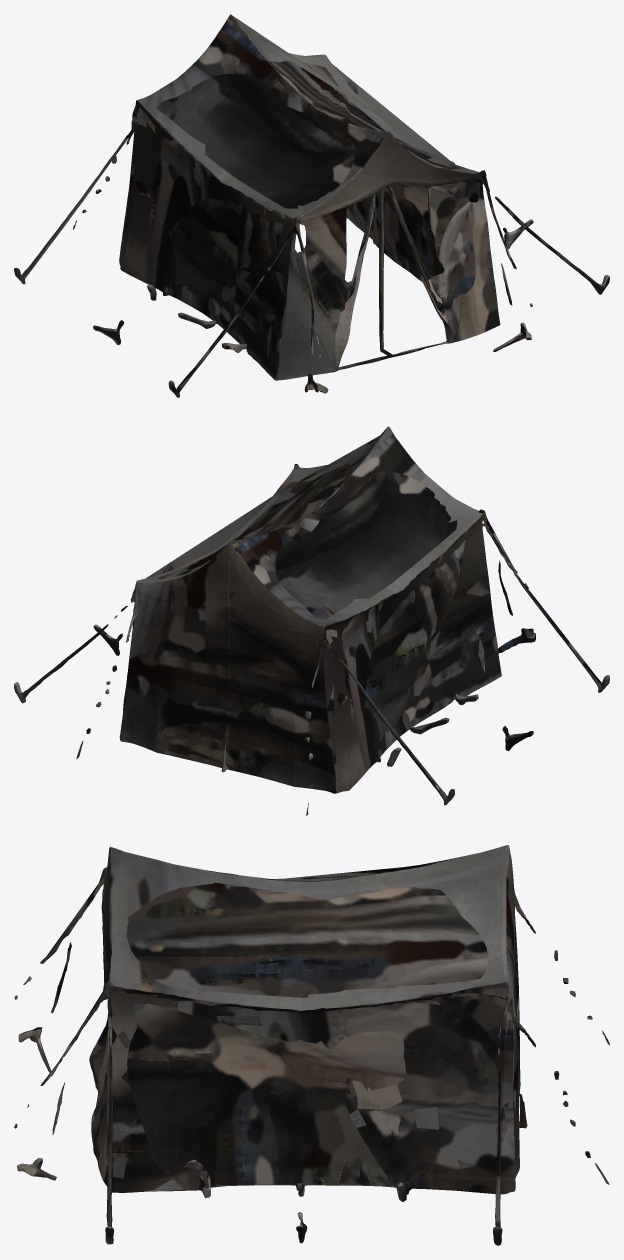
File: tent_1960.gltf
3 renders of one model, top to bottom at view 1: azimuth 30°, elevation 25°; view 2: azimuth 150°, elevation 25°; view 3: azimuth 270°, elevation 25°, orthographic. The views are drawn at different scales.
Visible parts, largest first — view 1: world; view 2: world; view 3: world.
Part boxes in pixels (<box>): world: <box>14,14,609,397</box>; world: <box>14,426,609,815</box>; world: <box>14,845,609,1245</box>.
Size of the model in its own units: 1 by 0.4963 by 0.9379.
1 material, 1 textured.
